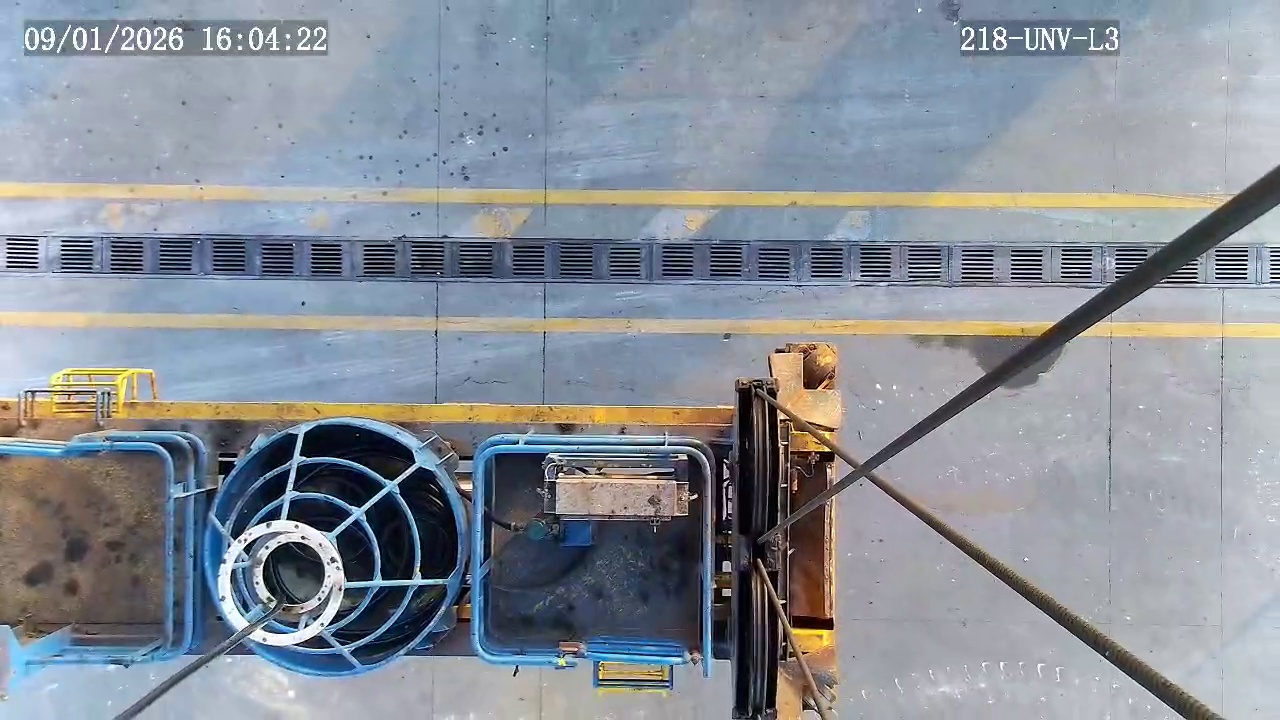right: (214, 518, 343, 645)
